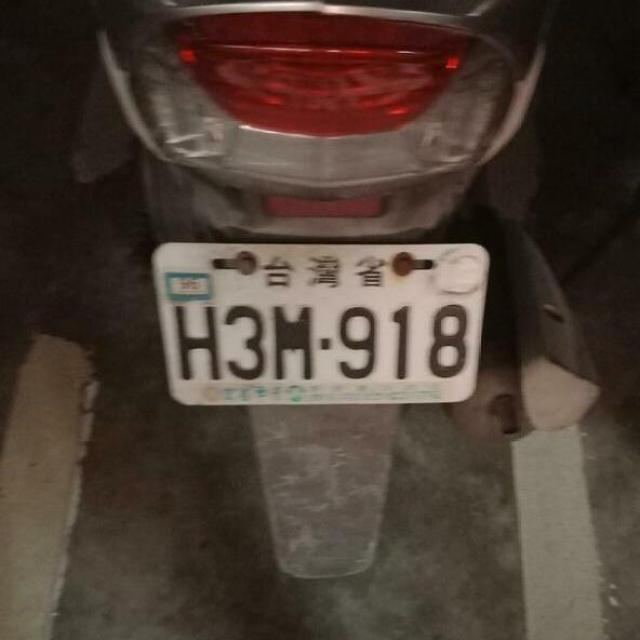W: (140, 224, 498, 422)
